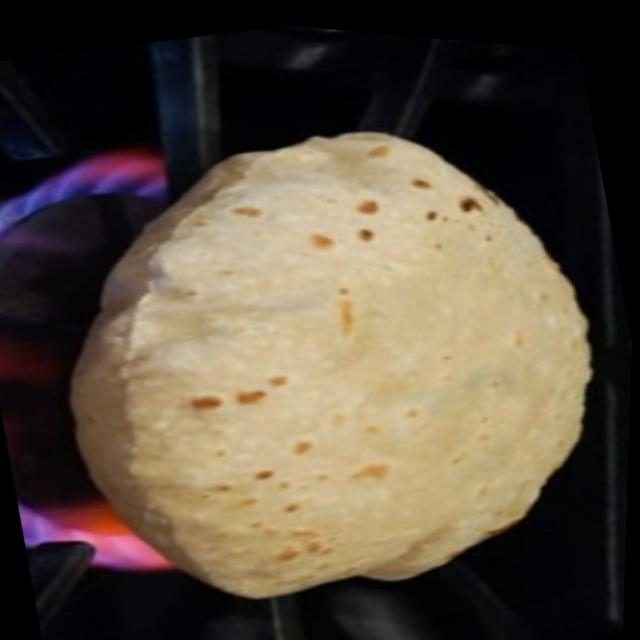CHAPATHI: (69, 132, 588, 601)
